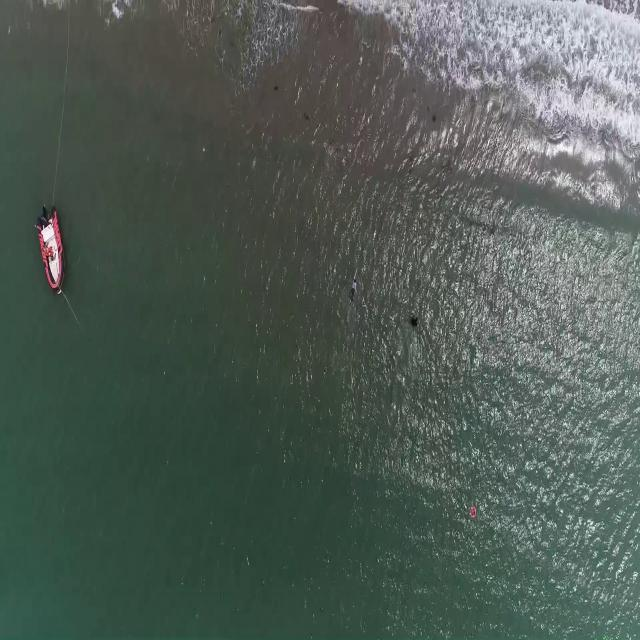boat: (35, 205, 65, 293)
life_buoy: (469, 504, 478, 519)
person: (349, 272, 362, 304), (410, 309, 419, 329)
